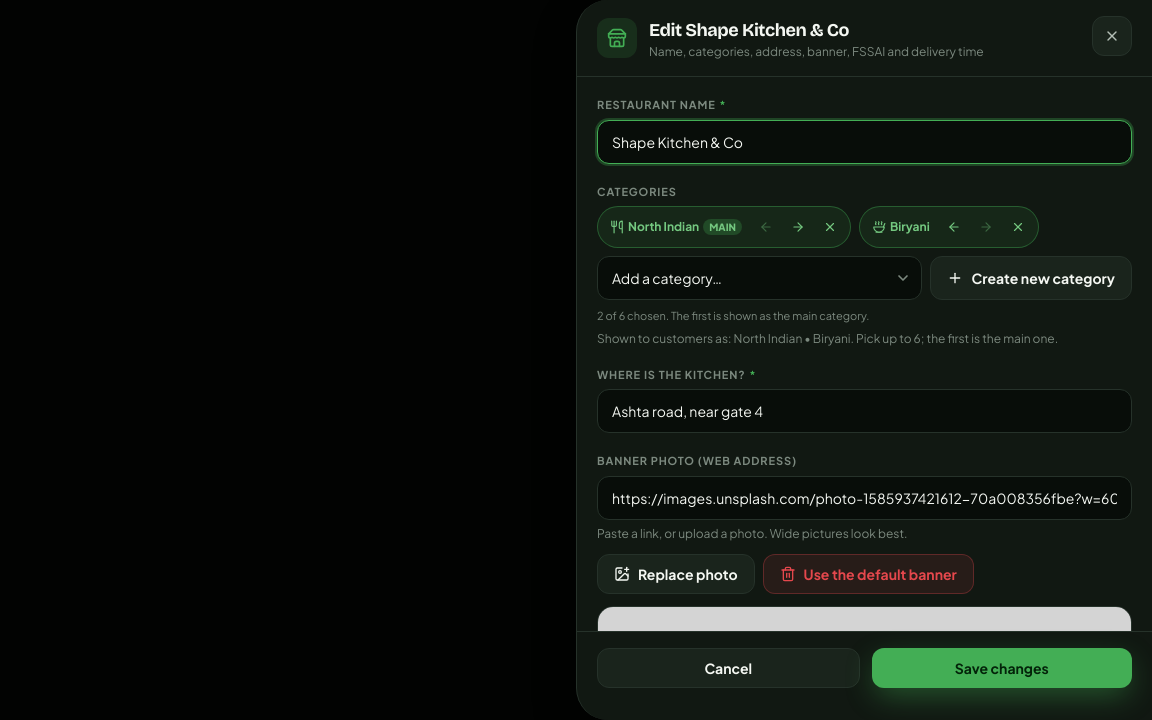
Test: EditRestaurantDrawer › nothing changed: says so, sends nothing
The width and height of the screenshot is (1152, 720).
Step 1. Click the button "Save changes" → (1002, 668), box [872,648,1132,688]
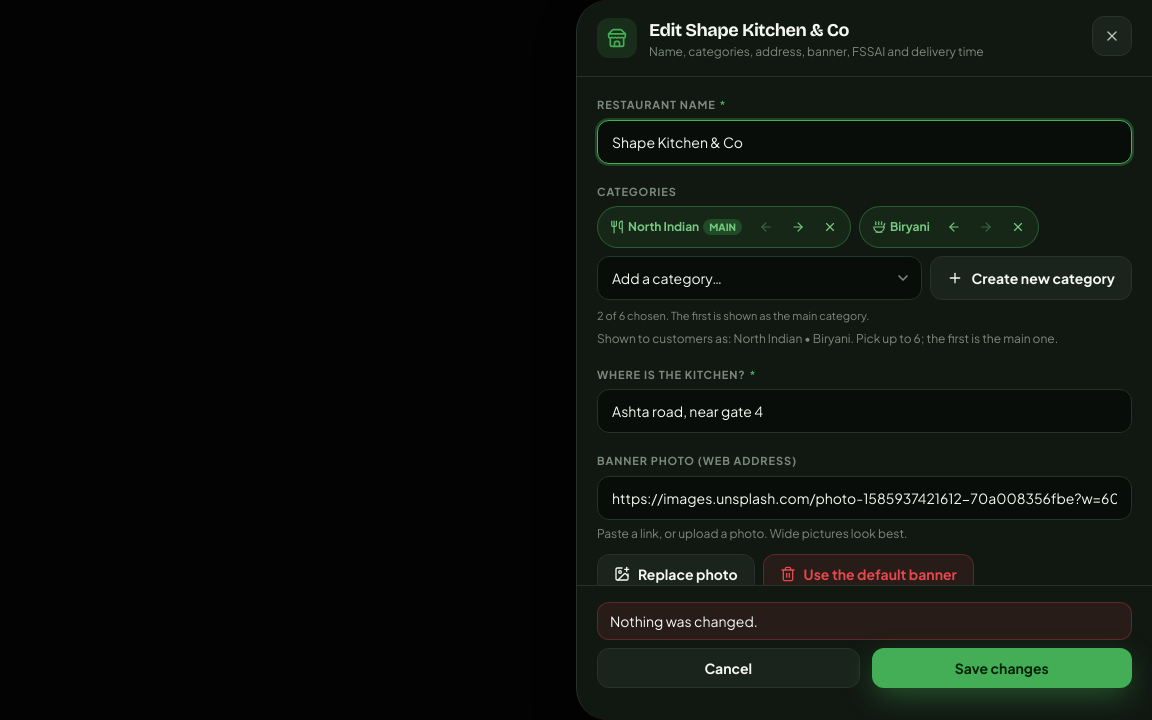
expect the message "Nothing was changed." is shown: met, box [597,602,1132,640]
